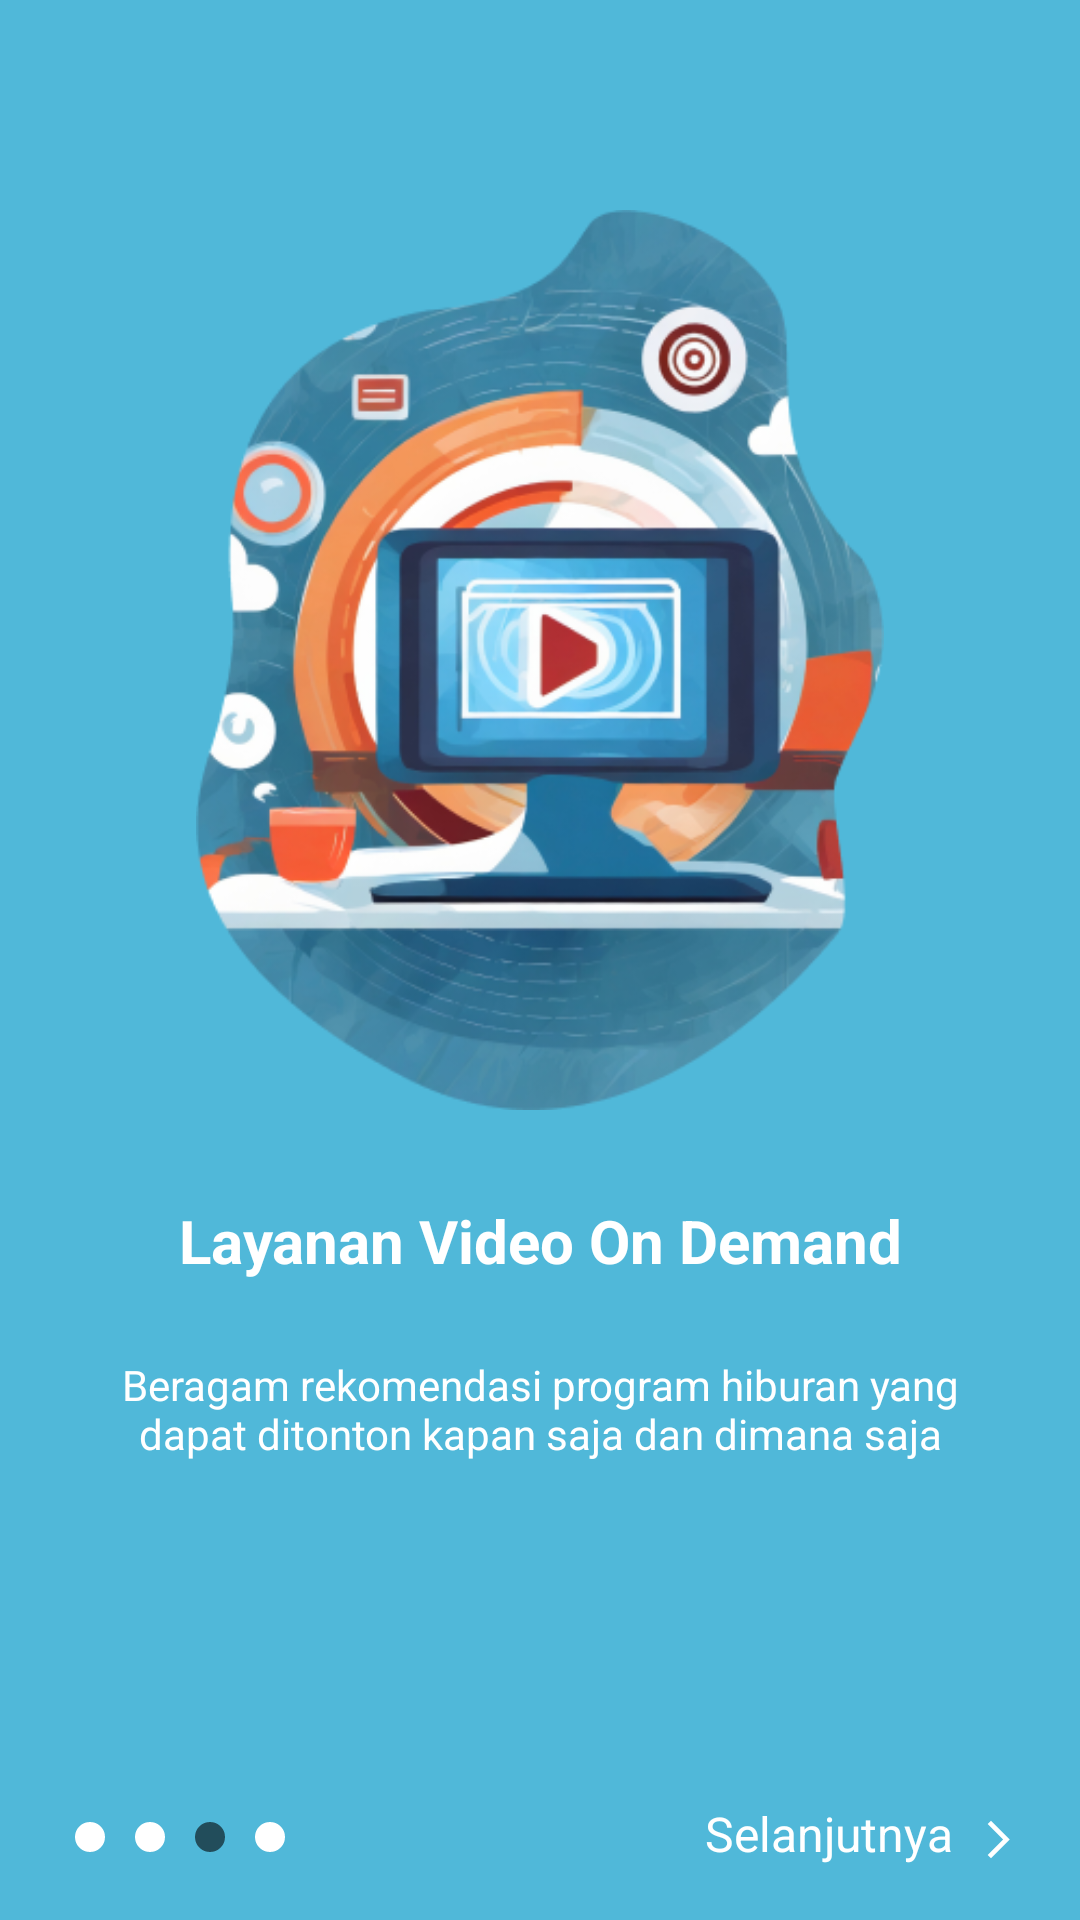

Icon click points for this 1080x1920 phone screenshot, format (x=x, y=y):
cont: (x=999, y=1839)
